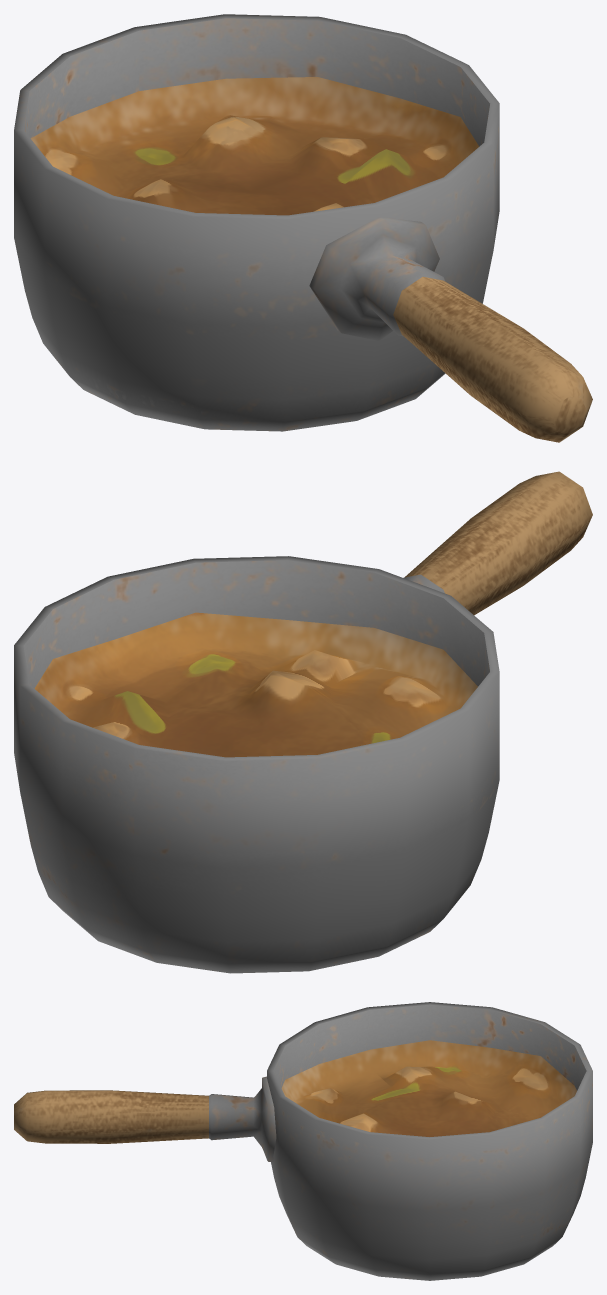
File: Pot01.glb
The picture shows the model from 3 angles, top to bottom: view 1: azimuth 30°, elevation 25°; view 2: azimuth 150°, elevation 25°; view 3: azimuth 270°, elevation 25°; orthographic projection. The views are drawn at different scales.
Visible parts, largest first — view 1: Pot, Curry; view 2: Pot, Curry; view 3: Pot, Curry.
Boxes of the visible parts, bbox=[...] form: Pot: bbox=[14, 14, 592, 442]; Curry: bbox=[30, 77, 479, 215]; Pot: bbox=[14, 471, 592, 973]; Curry: bbox=[34, 612, 477, 757]; Pot: bbox=[14, 1002, 592, 1280]; Curry: bbox=[281, 1040, 576, 1136].
Bounding box in the file's own units: 0.7653 × 0.3978 × 1.36.
Materials: 1 (1 with a texture image).
